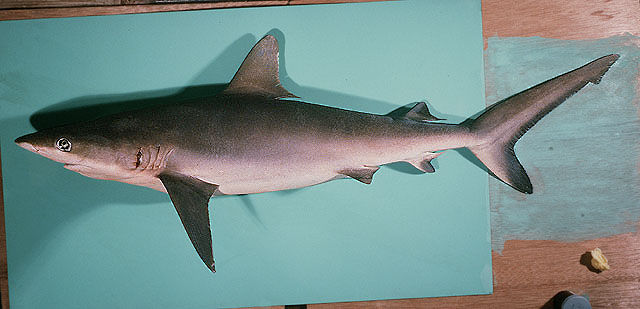fish: (17, 35, 620, 274)
